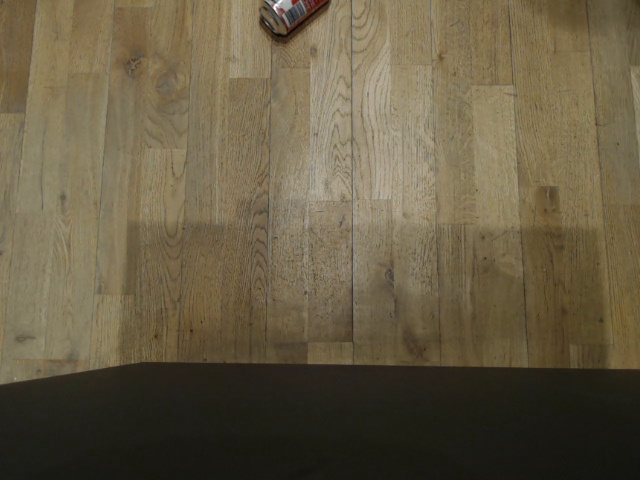cola: (254, 0, 329, 37)
